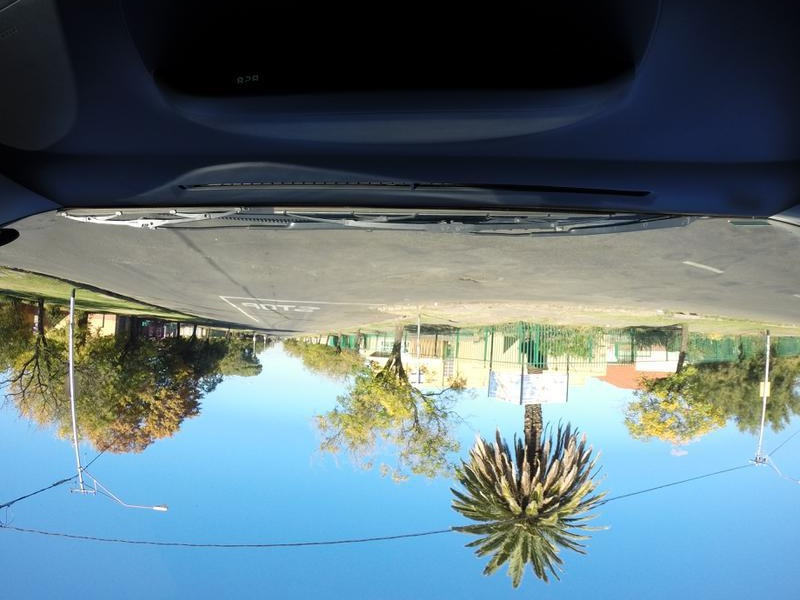pothole: (461, 269, 494, 289)
